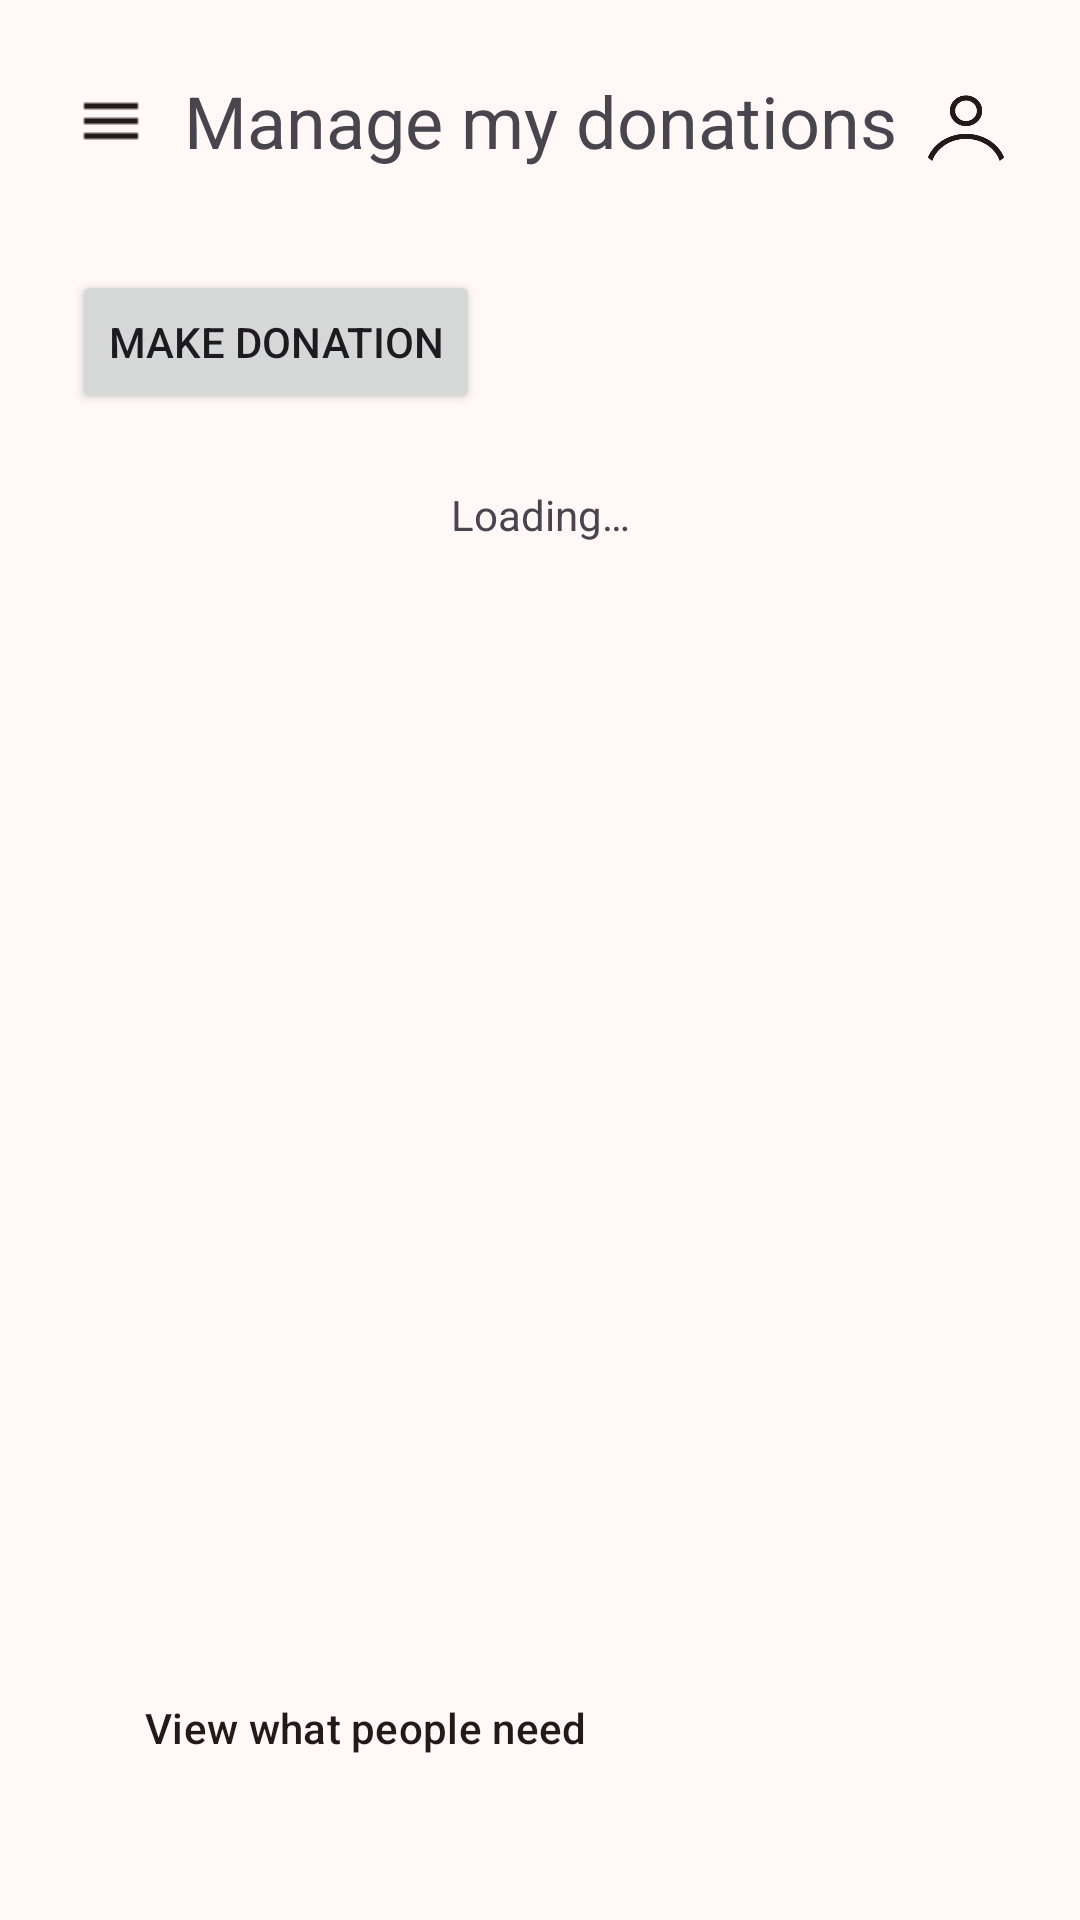

Icon bounding boxes for this 1080px×1920px phone screenshot, format bbox=[x1, y1, x2, y2]:
menu: bbox=[83, 102, 139, 140]
